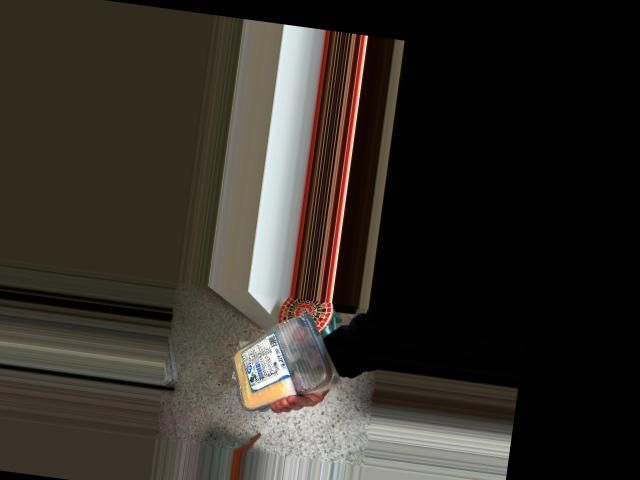cheese: (224, 306, 333, 406)
